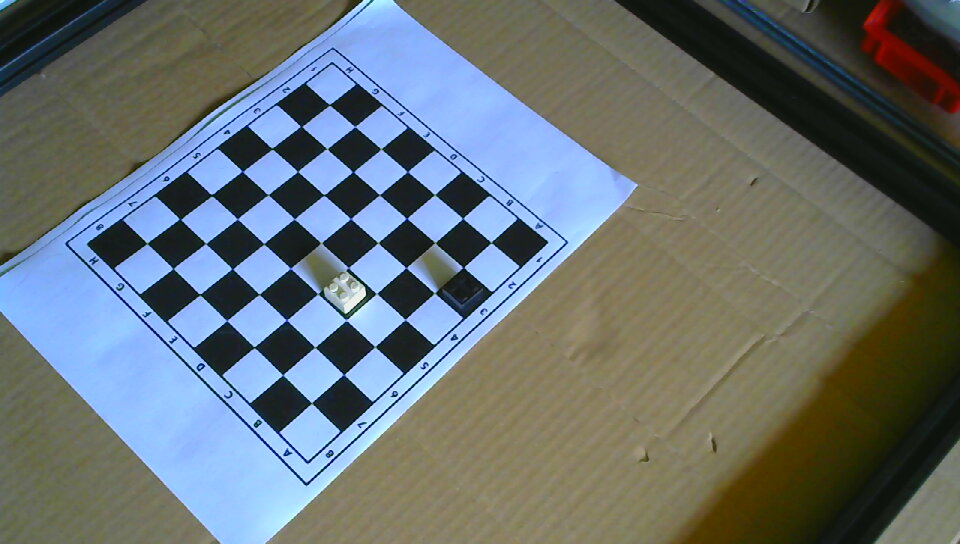bp: (439, 267, 487, 314)
wp: (322, 268, 367, 313)
